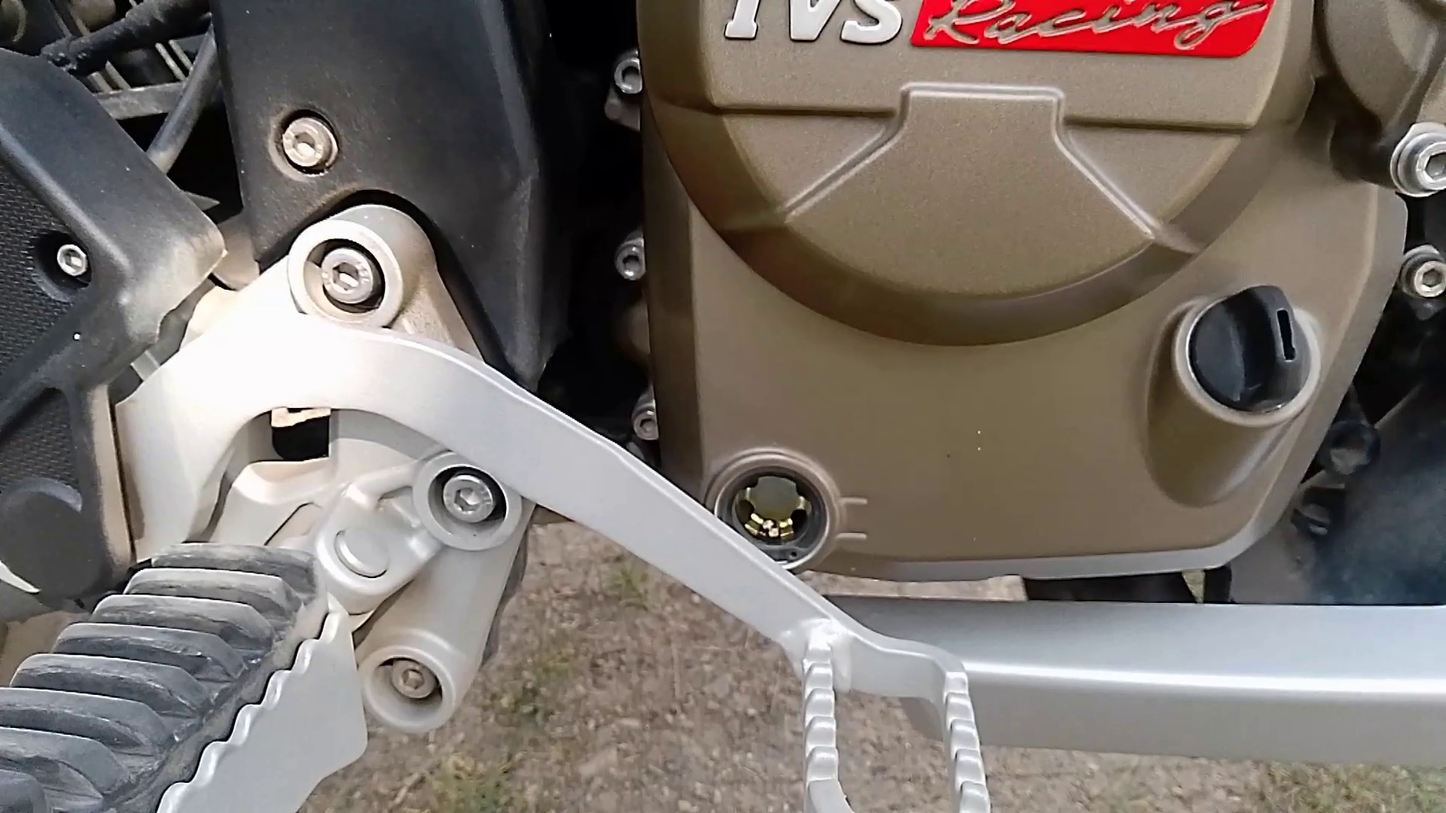engine: (593, 0, 1446, 629)
oil_cap: (1171, 263, 1342, 429)
oil_marker: (685, 435, 894, 591)
